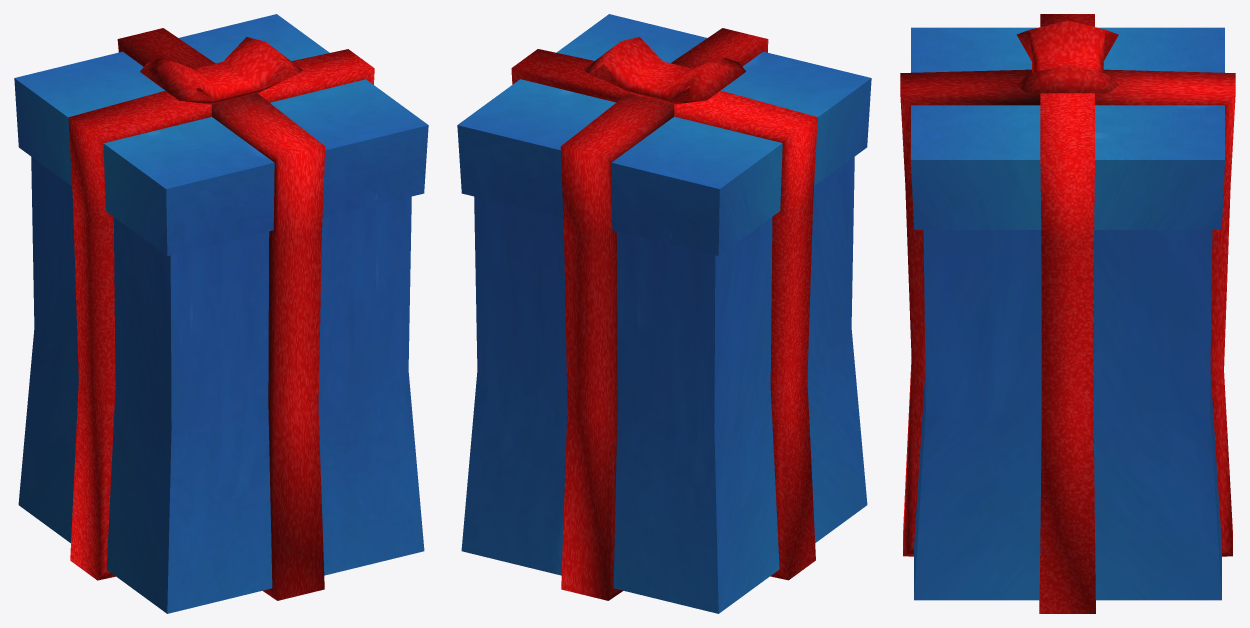
Rendered from present3.DAE.
3 views of the same model, side by side, from view 1: azimuth 30°, elevation 25°; view 2: azimuth 150°, elevation 25°; view 3: azimuth 270°, elevation 25° (orthographic). The views are drawn at different scales.
Parts seen in each view (by area): view 1: MESH03; view 2: MESH03; view 3: MESH03.
Part boxes in pixels (x1,y1,x2,y2): MESH03: [14, 14, 428, 613]; MESH03: [457, 14, 871, 613]; MESH03: [900, 14, 1235, 613].
Size of the model in its own units: 0.2143 by 0.2147 by 0.3573.
1 material, 1 textured.
